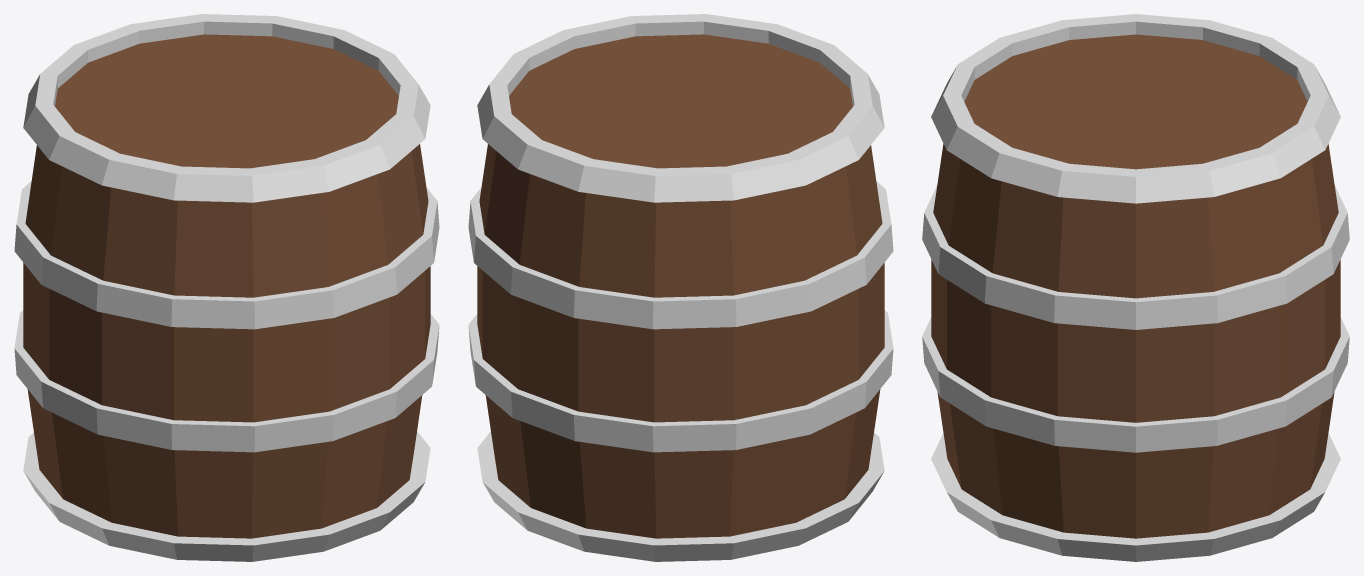
Rendered from Barrel.fbx.
3 views of the same model, side by side, from view 1: azimuth 30°, elevation 25°; view 2: azimuth 150°, elevation 25°; view 3: azimuth 270°, elevation 25° (orthographic).
Visible parts, largest first — view 1: Barrel; view 2: Barrel; view 3: Barrel.
Boxes of the visible parts, x1,y1,x2,y2 form: Barrel: (14,14,439,561); Barrel: (468,14,893,561); Barrel: (922,14,1349,561).
Size of the model in its own units: 117 by 116 by 117.
